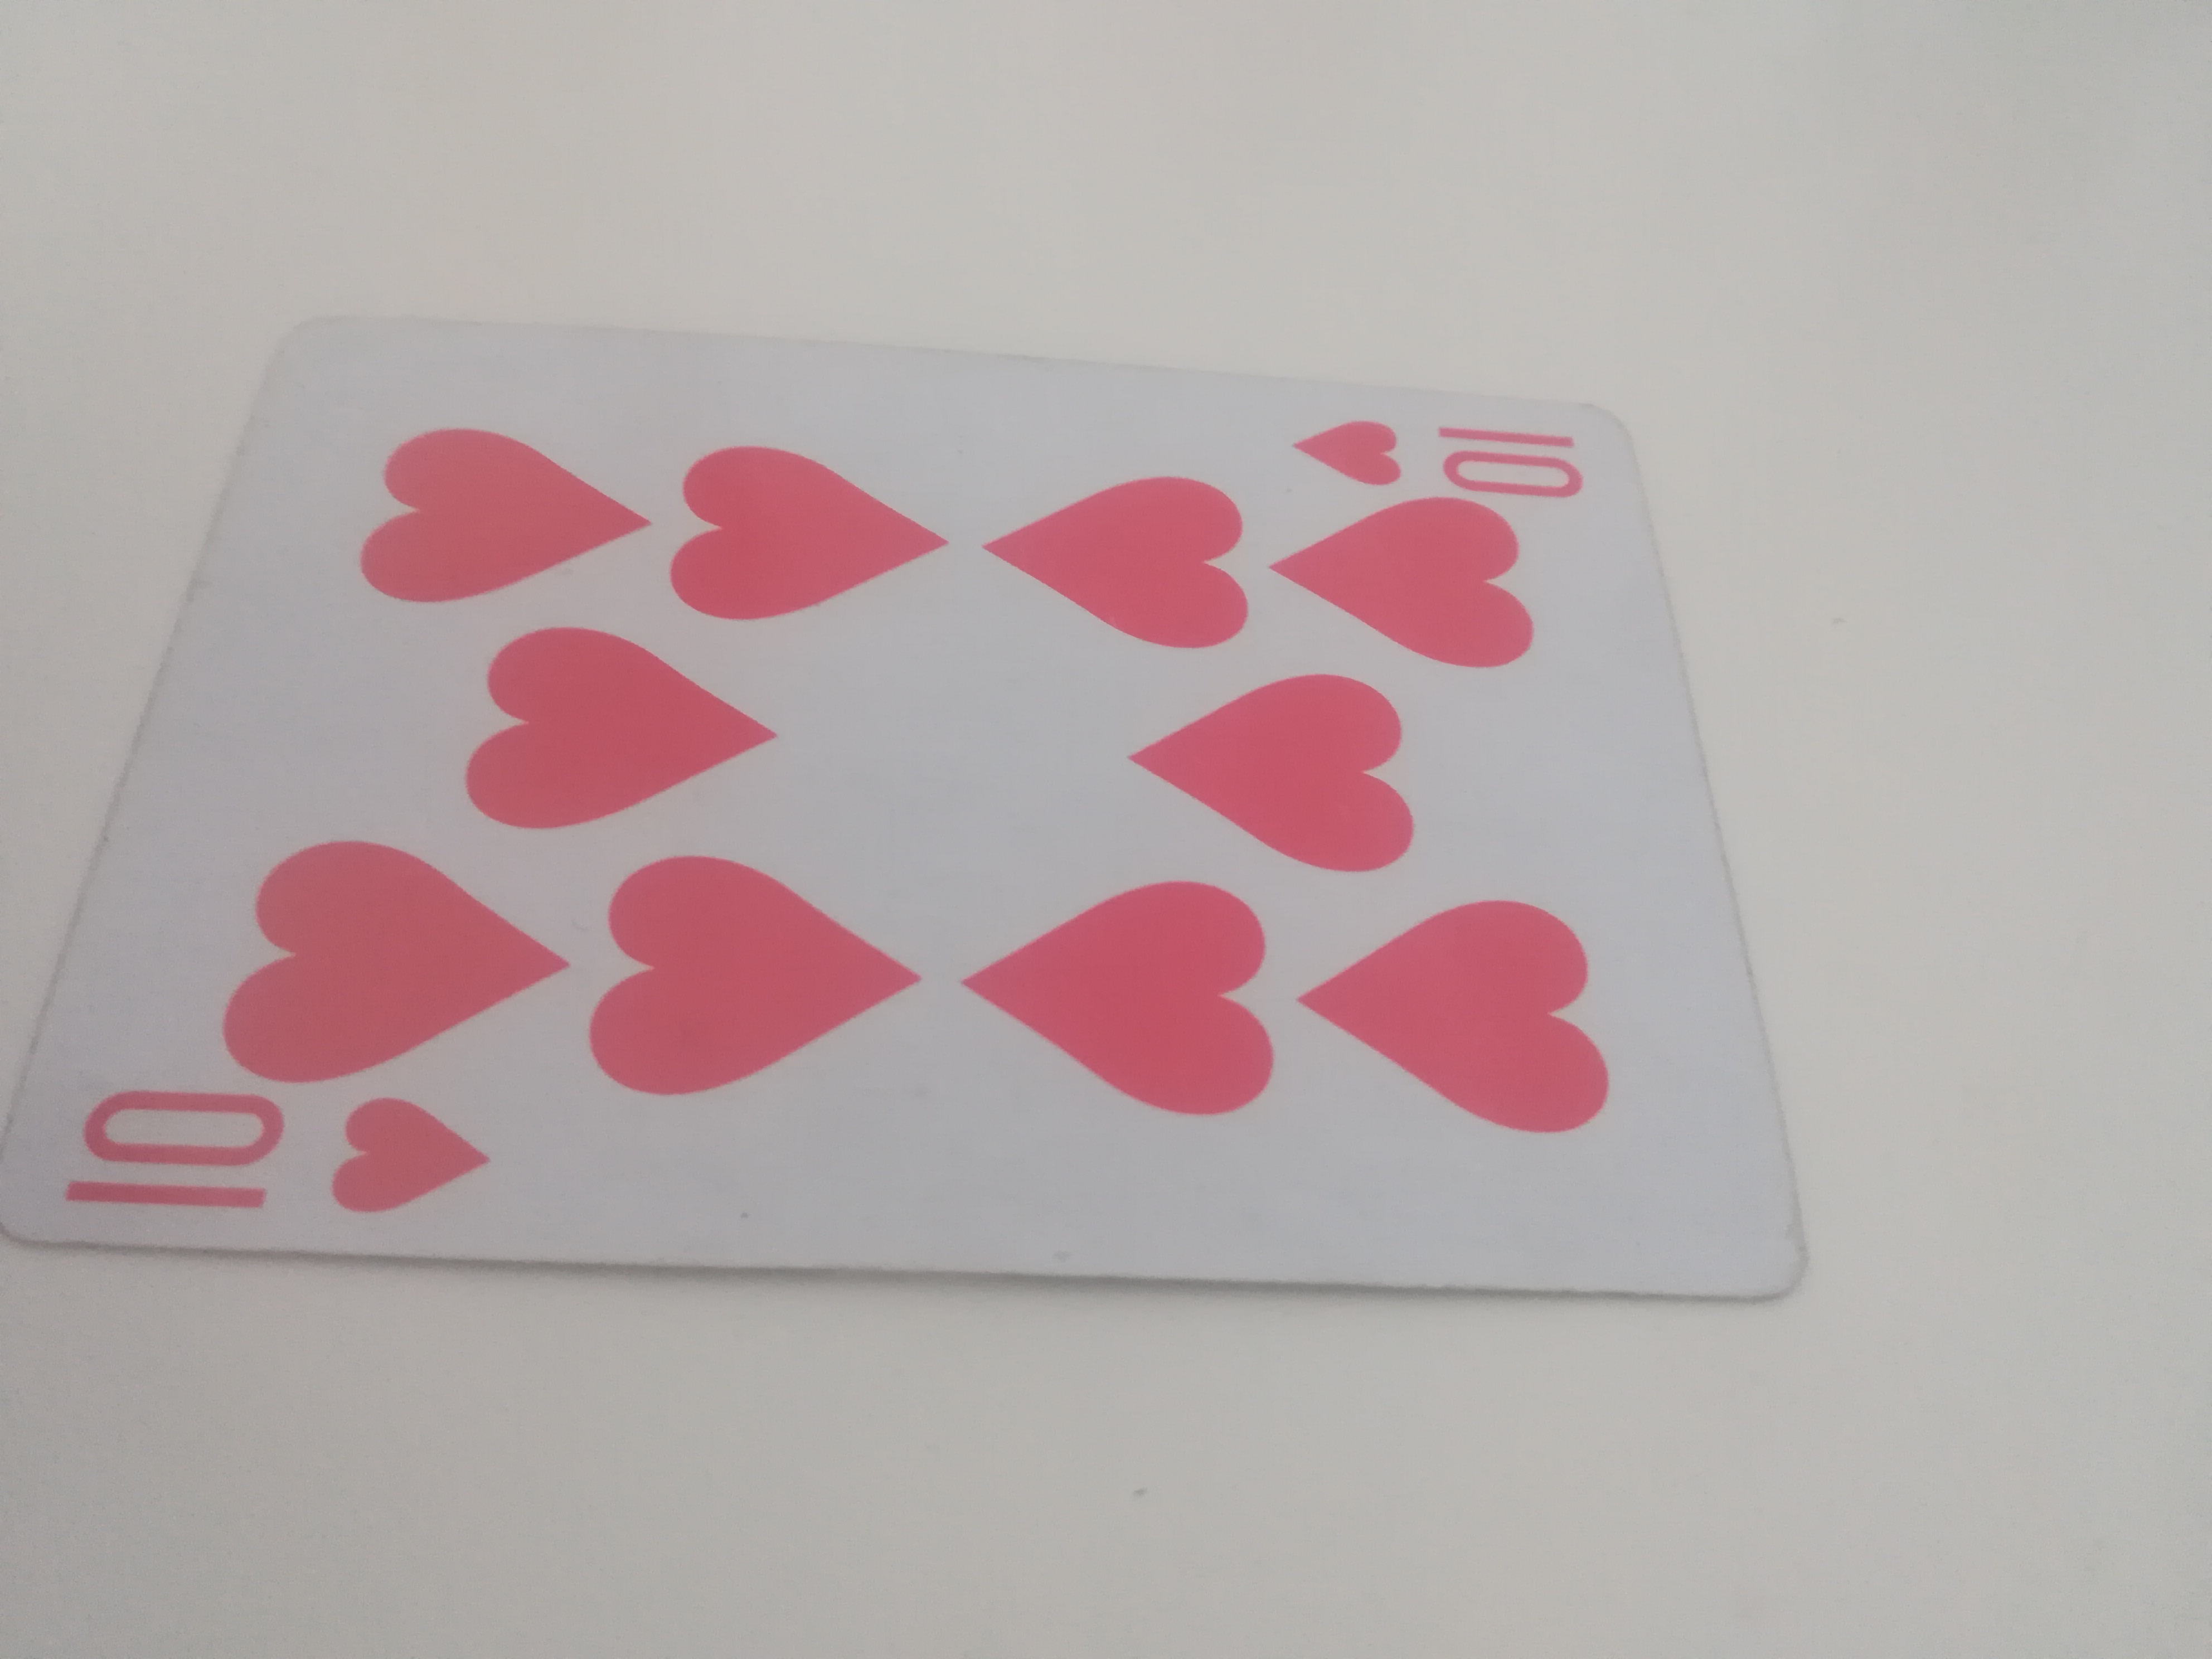10H: (0, 315, 1829, 1317)
